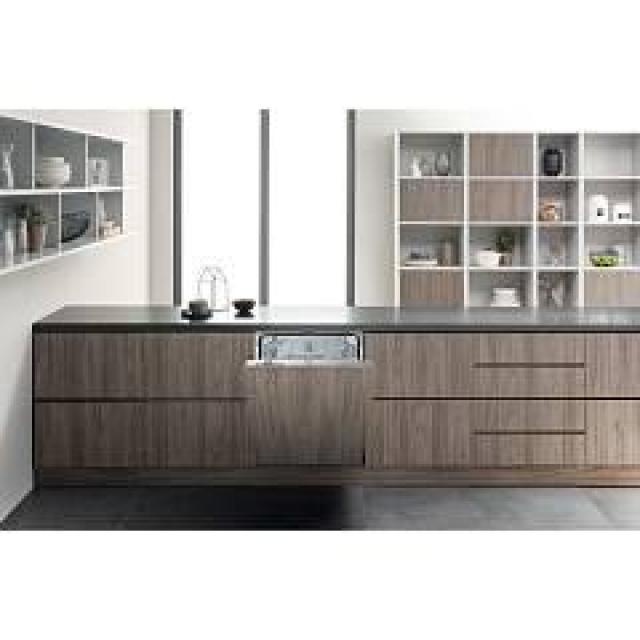dishwasher: (234, 325, 378, 475)
